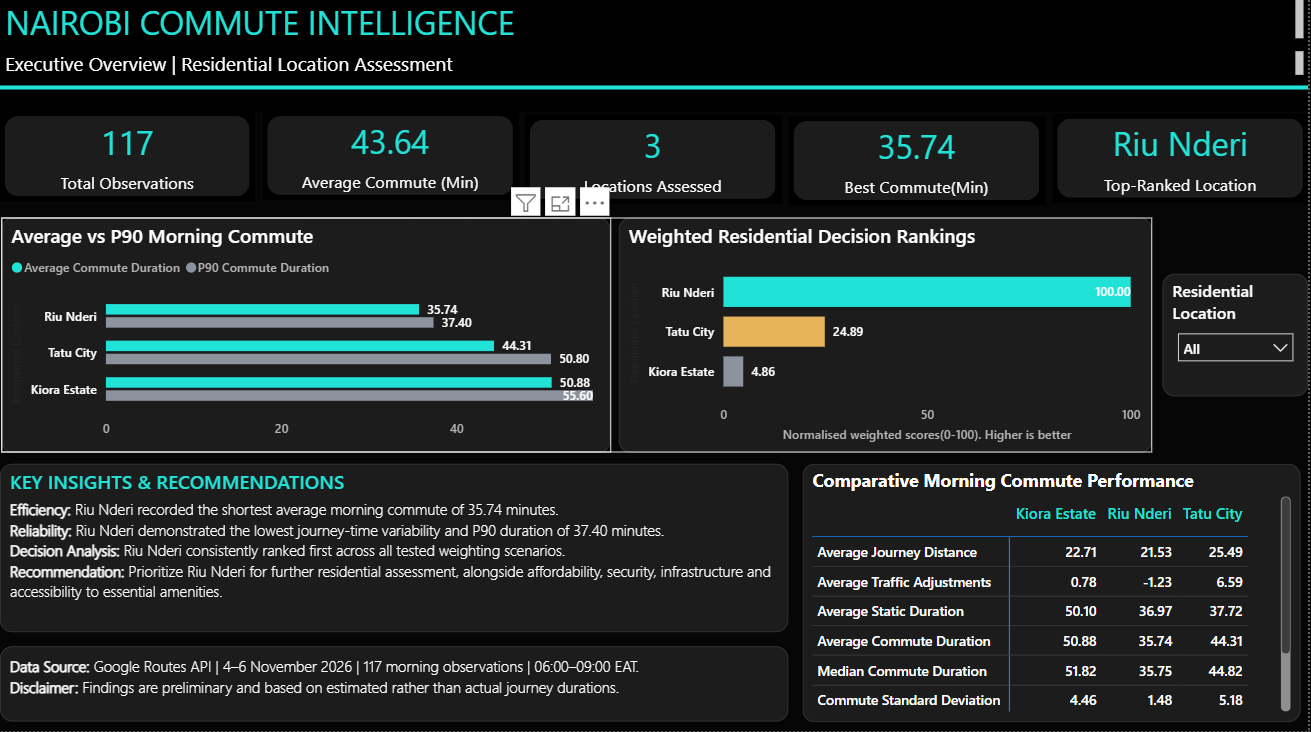

The dashboard page shown, as its layout file describes it:
{"tool":"powerbi","page":{"name":"Executive Summary","canvas":[1280,720],"ordinal":0},"visuals":[{"type":"shape","box":[0,0,1280,114.4],"z":0,"group":"g2"},{"type":"cardVisual","fields":{"Data":["Commute_Observations.Total Observations"]},"box":[0,113.8,249.8,88.2],"z":0,"group":"g1"},{"type":"slicer","title":"Residential Location","fields":{"Values":["Dim_Location.Residential Location"]},"box":[1137.5,272.5,142.5,120],"z":0},{"type":"textbox","box":[0,0,1280,50],"z":1000,"group":"g2"},{"type":"cardVisual","fields":{"Data":["Commute_Observations.Average Commute Duration"]},"box":[256.5,114.3,250.9,87.5],"z":1000,"group":"g1"},{"type":"pivotTable","title":"Comparative Morning Commute Performance","fields":{"Columns":["Dim_Location.Residential Location"],"Values":["Commute_Observations.Average Journey Distance","Commute_Observations.Average Traffic Adjustments","Commute_Observations.Average Static Duration","Commute_Observations.Average Commute Duration","Commute_Observations.Median Commute Duration","Commute_Observations.Commute Standard Deviation","Commute_Observations.Maximum Commute Duration","Commute_Observations.Total Observations"]},"box":[785,458.8,487.5,252.5],"z":1000},{"type":"textbox","box":[0,50,1280,34],"z":2000,"group":"g2"},{"type":"cardVisual","fields":{"Data":["Dim_Location.Total Residential Locations"]},"box":[514,117.2,250.9,87.5],"z":2000,"group":"g1"},{"type":"clusteredBarChart","title":"Average vs P90 Morning Commute","fields":{"Category":["Dim_Location.Residential Location"],"Y":["Commute_Observations.Average Commute Duration","Commute_Observations.P90 Commute Duration"]},"box":[1.8,218,596.2,230],"z":2000,"group":"g3"},{"type":"textbox","title":"KEY INSIGHTS & RECOMMENDATIONS","box":[0,458.8,771.2,165],"z":2000},{"type":"shape","box":[0,84.4,1280,12.2],"z":3000,"group":"g2"},{"type":"cardVisual","fields":{"Data":["Commute_Observations.Best Average Commute"]},"box":[771.6,118.6,250.9,87.5],"z":3000,"group":"g1"},{"type":"clusteredBarChart","title":"Weighted Residential Decision Rankings","fields":{"Category":["Dim_Location.Residential Location"],"Y":["Decision_Rankings.Weighted Performance Score"]},"box":[605.8,218,521.2,230],"z":3000,"group":"g3"},{"type":"textbox","box":[0,637.5,771.2,73.8],"z":3000},{"type":"group","id":"g1","title":"Group 1","box":[0,113.8,1280,91.2],"z":4000},{"type":"cardVisual","fields":{"Data":["Decision_Rankings.Top Ranked Location"]},"box":[1029.1,115.7,250.9,87.5],"z":4000,"group":"g1"},{"type":"group","id":"g2","title":"Report Header","box":[0,0,1280,114.4],"z":5000},{"type":"group","id":"g3","title":"Group 2","box":[1.8,218,1125.2,230],"z":6000}]}

Visuals, with their boxes in screenshot pixels (x1, y1, x2, y2), scaled from the page's 1280x720 canvas onto the 1311x732 screenshot:
shape: detection(0, 0, 1310, 116)
cardVisual - Commute_Observations.Total Observations: detection(0, 116, 256, 205)
"Residential Location" slicer: detection(1165, 277, 1310, 399)
textbox: detection(0, 0, 1310, 51)
cardVisual - Commute_Observations.Average Commute Duration: detection(263, 116, 520, 205)
"Comparative Morning Commute Performance" pivotTable: detection(804, 466, 1303, 723)
textbox: detection(0, 51, 1310, 85)
cardVisual - Dim_Location.Total Residential Locations: detection(526, 119, 783, 208)
"Average vs P90 Morning Commute" clusteredBarChart: detection(2, 222, 612, 455)
"KEY INSIGHTS & RECOMMENDATIONS" textbox: detection(0, 466, 790, 634)
shape: detection(0, 86, 1310, 98)
cardVisual - Commute_Observations.Best Average Commute: detection(790, 121, 1047, 210)
"Weighted Residential Decision Rankings" clusteredBarChart: detection(620, 222, 1154, 455)
textbox: detection(0, 648, 790, 723)
"Group 1" group: detection(0, 116, 1310, 208)
cardVisual - Decision_Rankings.Top Ranked Location: detection(1054, 118, 1310, 207)
"Report Header" group: detection(0, 0, 1310, 116)
"Group 2" group: detection(2, 222, 1154, 455)
